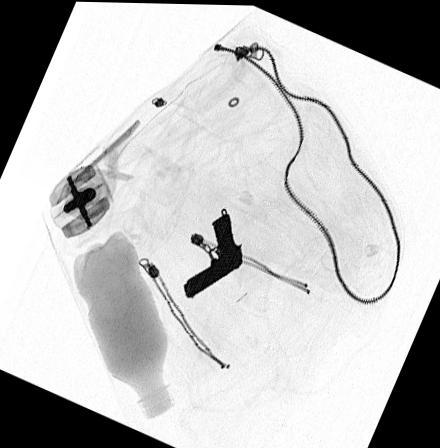Gun: (184, 210, 243, 297)
